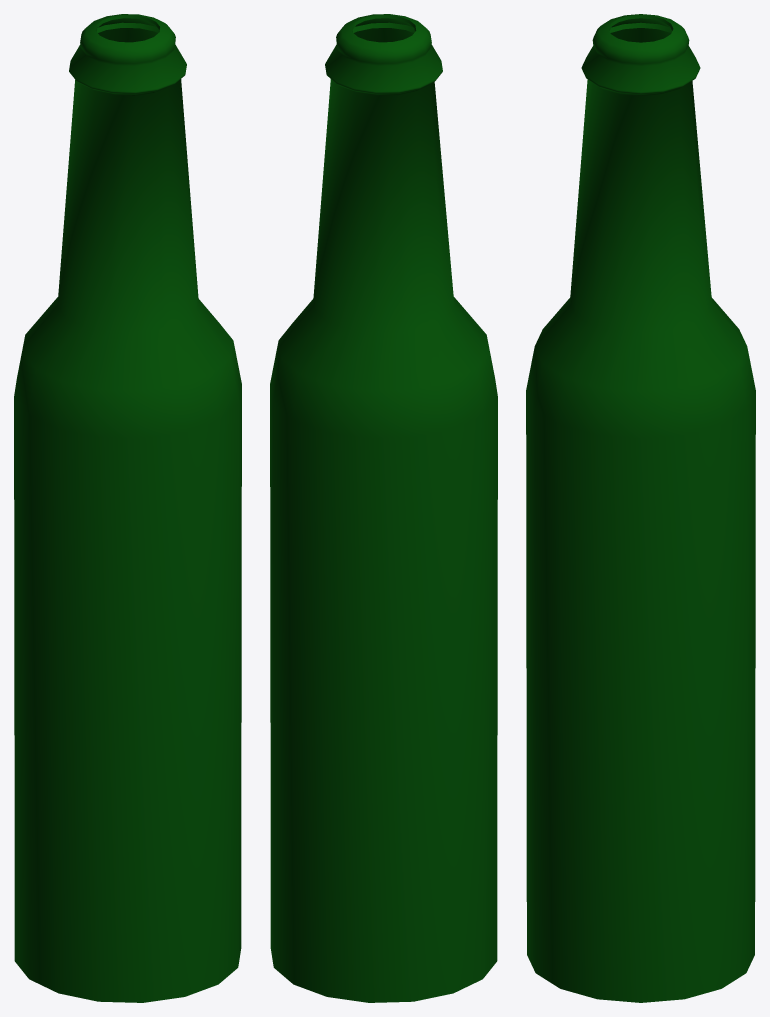
Rendered from Prop_BeerBottle.FBX.
The picture shows the model from 3 angles, left to right: view 1: azimuth 30°, elevation 25°; view 2: azimuth 150°, elevation 25°; view 3: azimuth 270°, elevation 25°; orthographic projection.
Parts seen in each view (by area): view 1: Beer Bottle; view 2: Beer Bottle; view 3: Beer Bottle.
Part boxes in pixels (x1,y1,x2,y2): Beer Bottle: [14, 14, 241, 1002]; Beer Bottle: [270, 14, 497, 1002]; Beer Bottle: [526, 14, 755, 1002].
Bounding box in the file's own units: 6.43 × 28.6 × 6.43.
